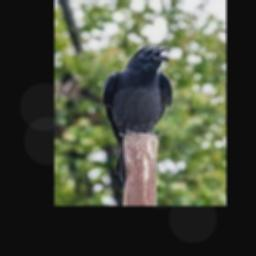Crow: (102, 45, 173, 188)
